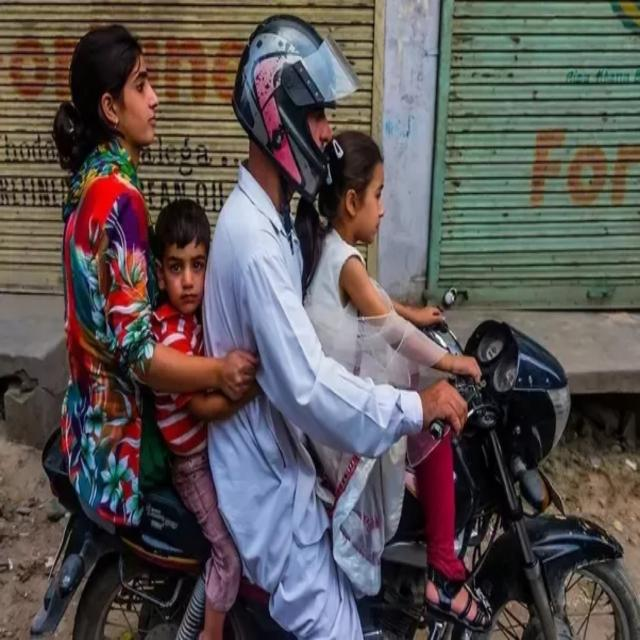helmet: (230, 14, 365, 199)
no_helmet: (49, 19, 162, 168), (315, 126, 389, 248), (146, 192, 213, 320)
